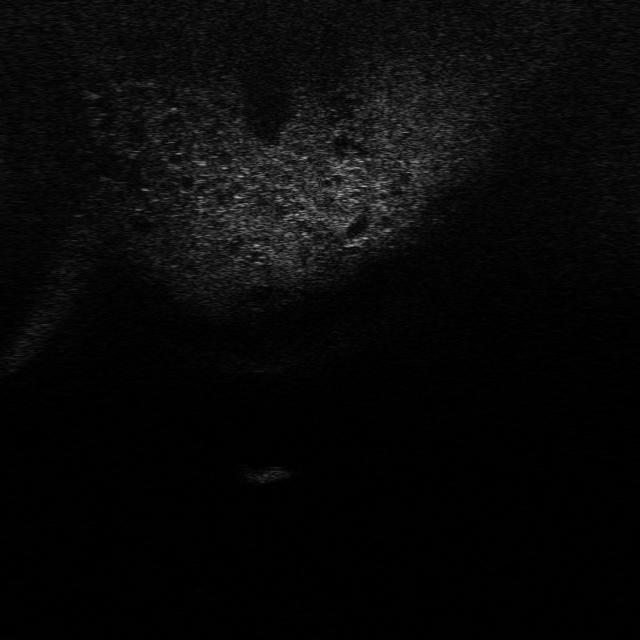cube: (230, 460, 290, 484)
